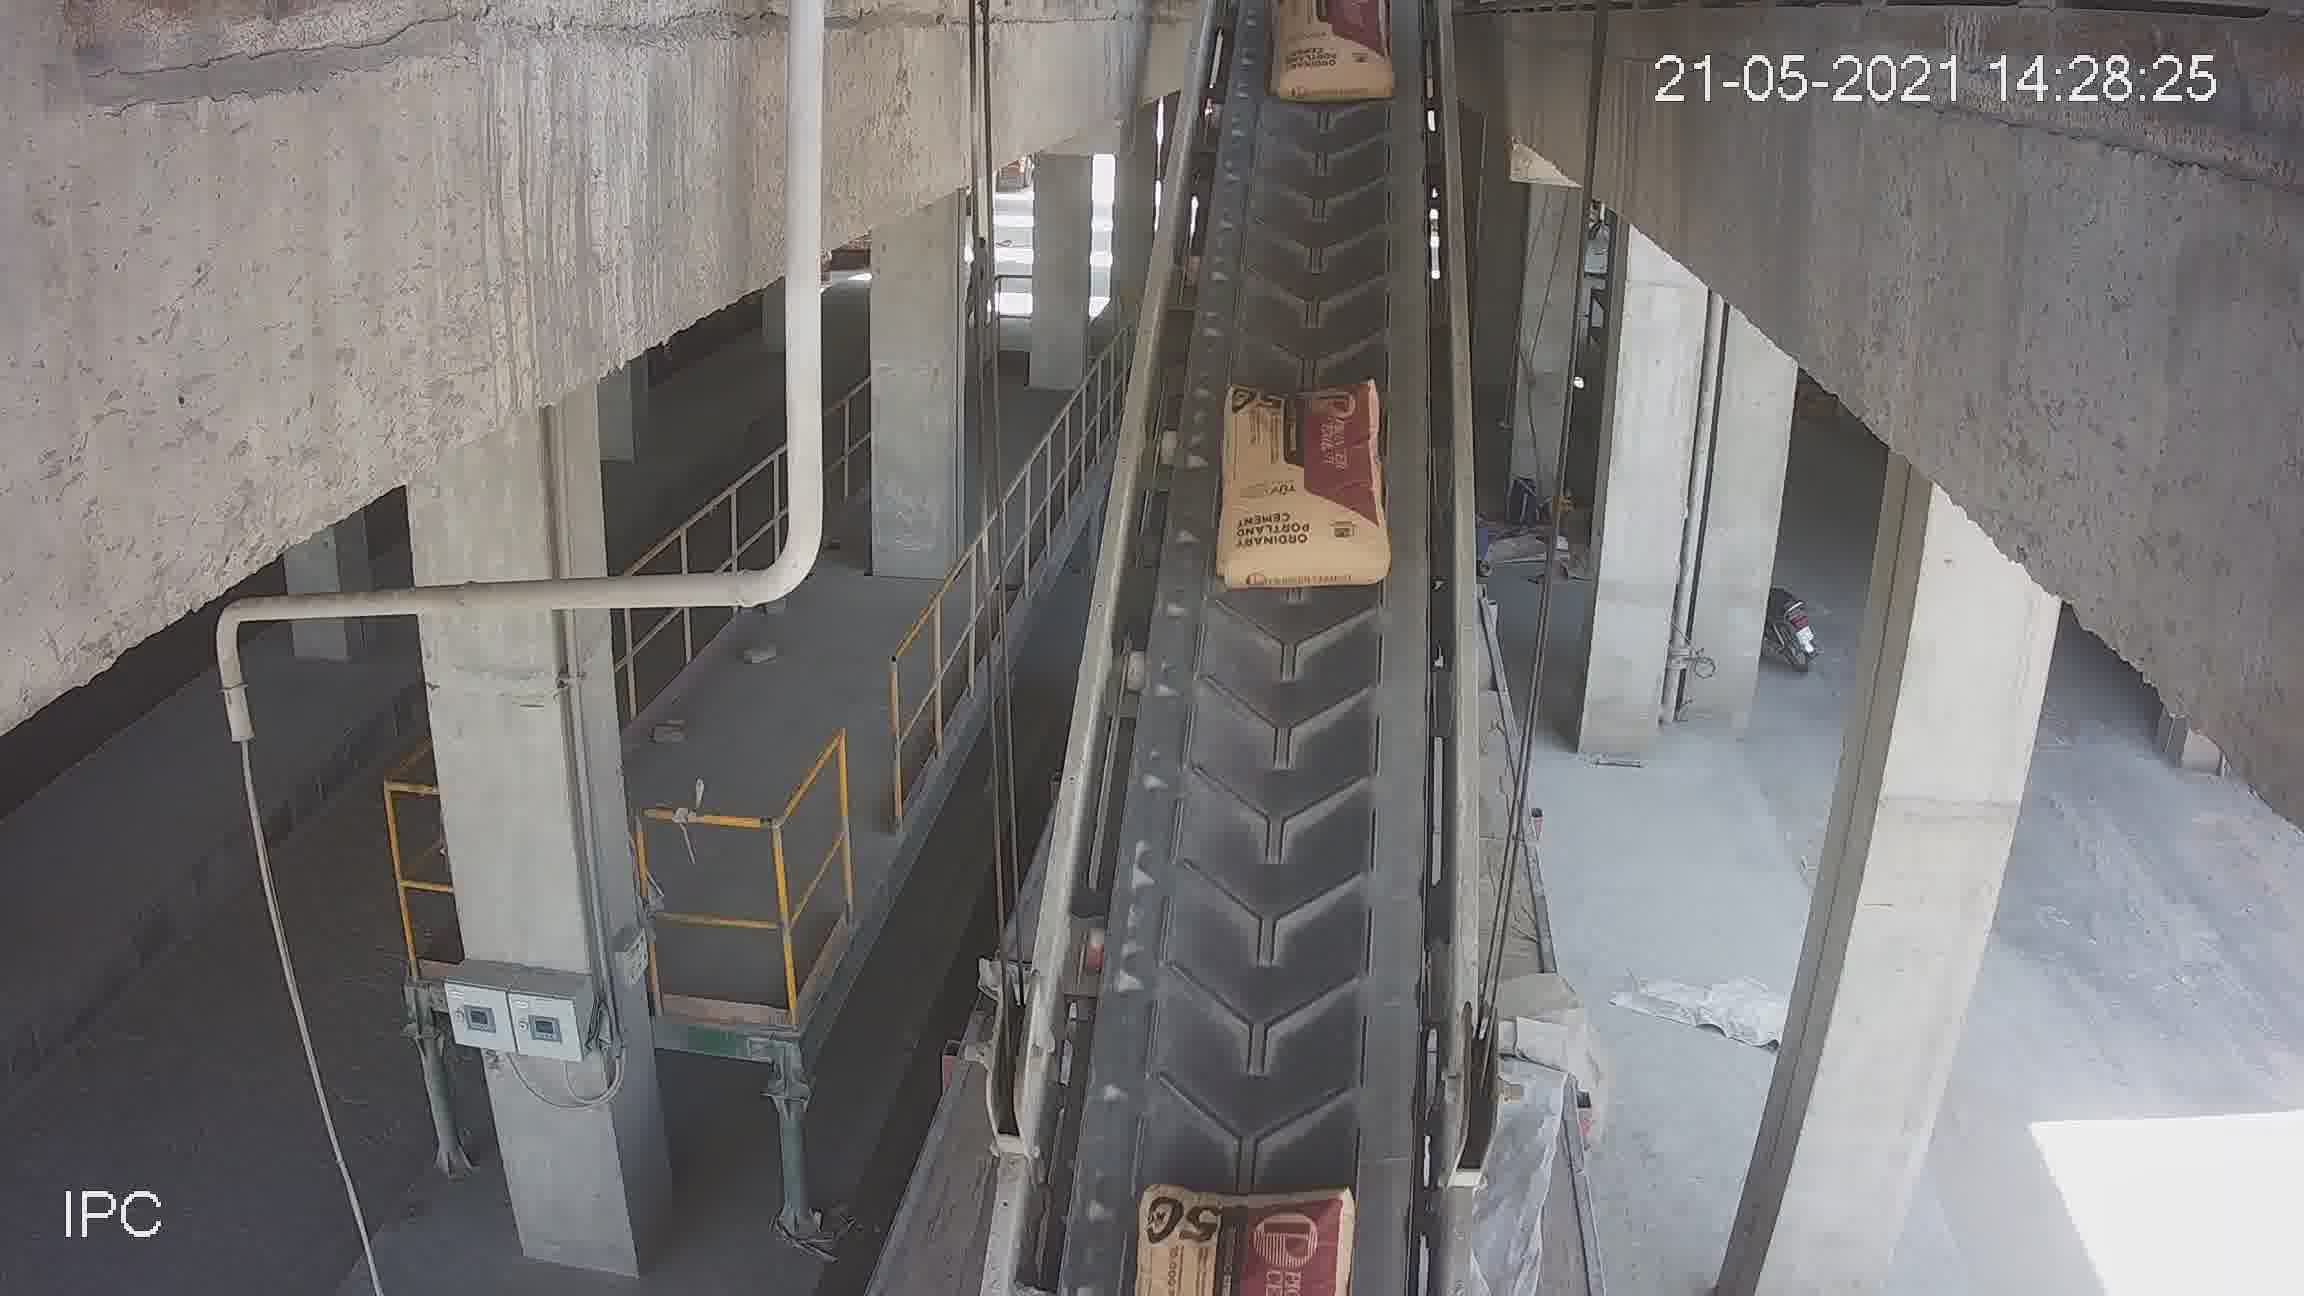bag: (1215, 392, 1391, 600), (1143, 1176, 1359, 1296), (1275, 5, 1386, 92)
belt: (1052, 43, 1510, 1236)
